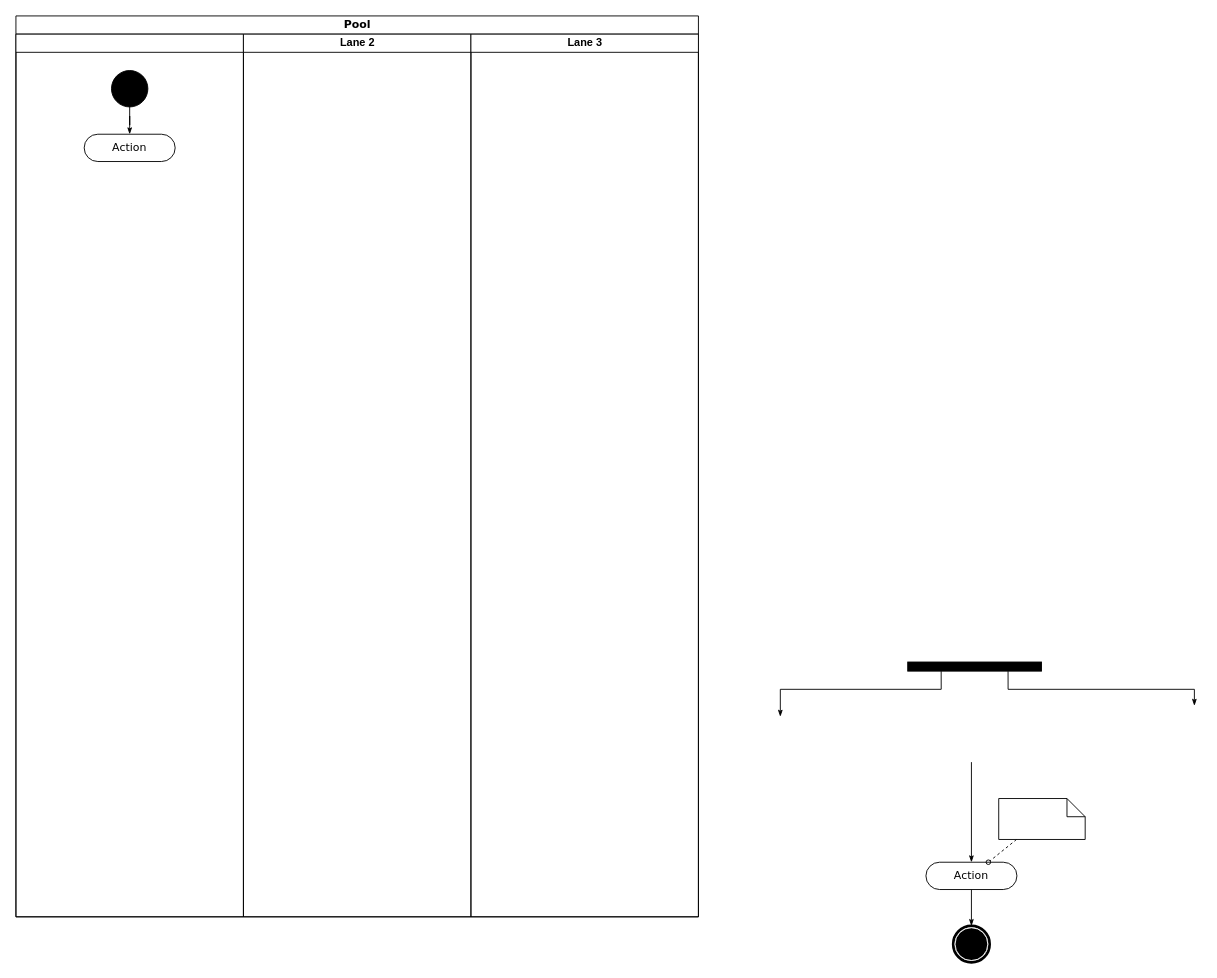
This 1217x978 diagram has some shape labels left out. The shapes that lost their labels are listed below. From the top down, each one's box as (x1, y1, x2, y2) in pixels, then its label:
(15, 33, 243, 917): Lane 1
(998, 798, 1085, 839): Note
